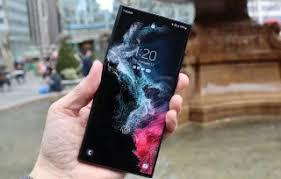Hand: (43, 58, 189, 179)
Smartphone: (76, 4, 184, 171)
